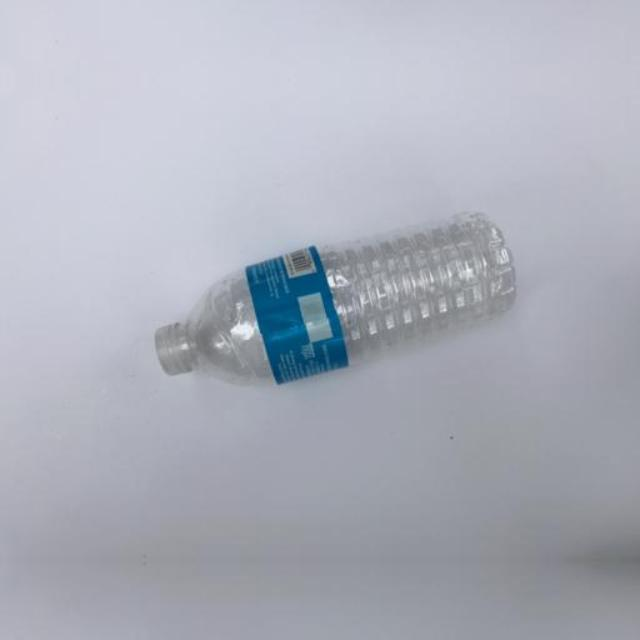Plastic: (143, 208, 535, 406)
